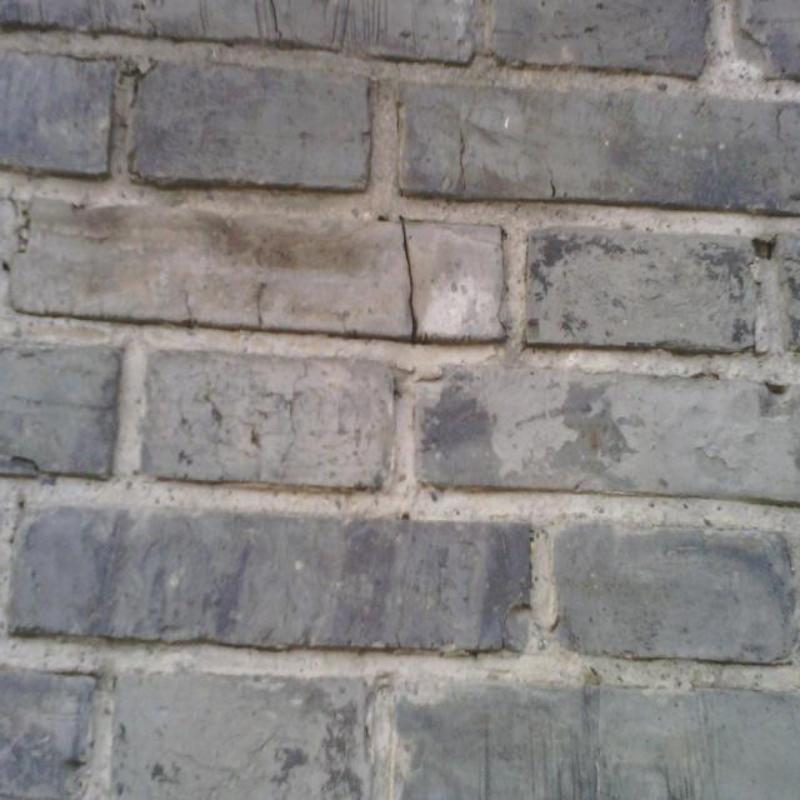pothole: (400, 215, 418, 336), (271, 0, 282, 49), (458, 127, 466, 190), (754, 238, 776, 259), (255, 284, 265, 329), (545, 162, 555, 198), (775, 106, 784, 139)
